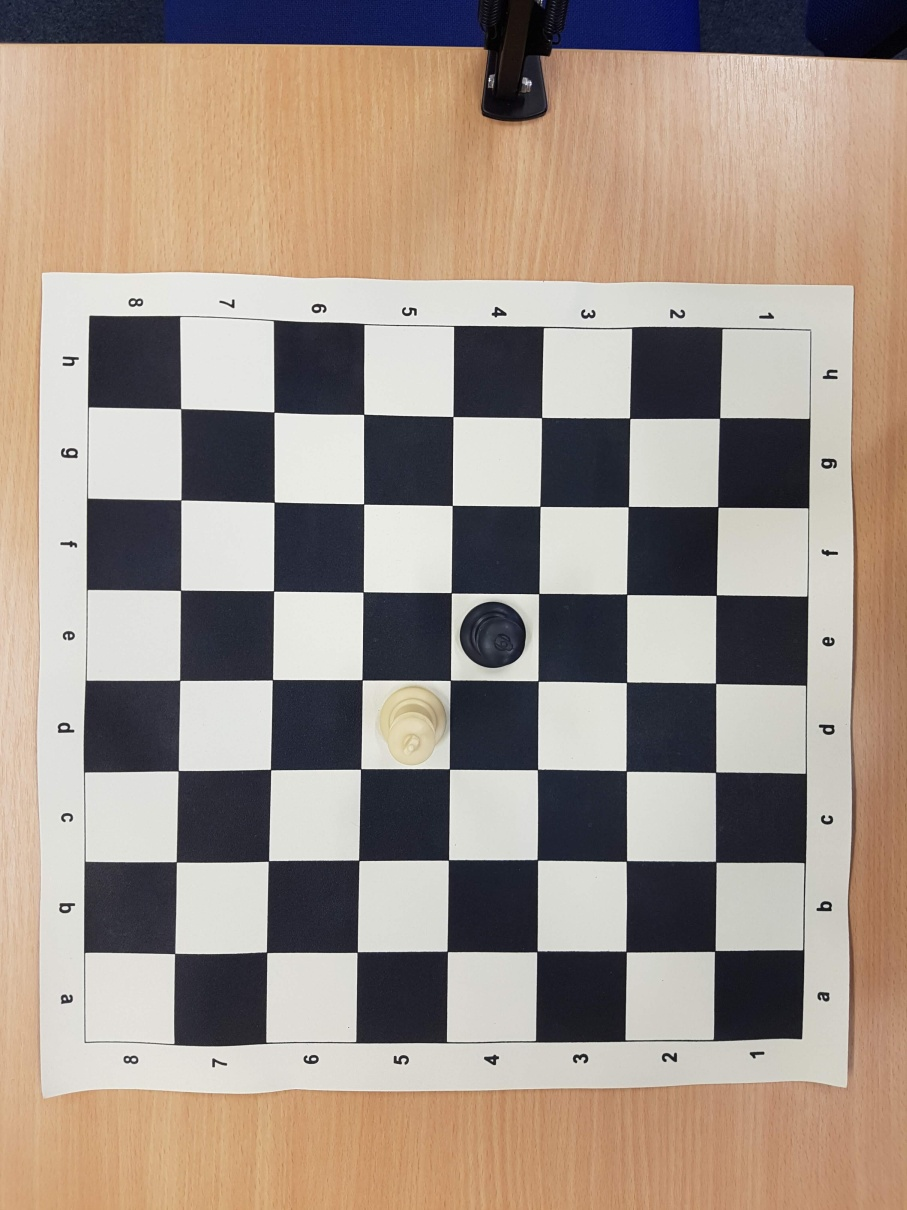chess_king: (380, 686, 446, 764), (460, 601, 527, 669)
